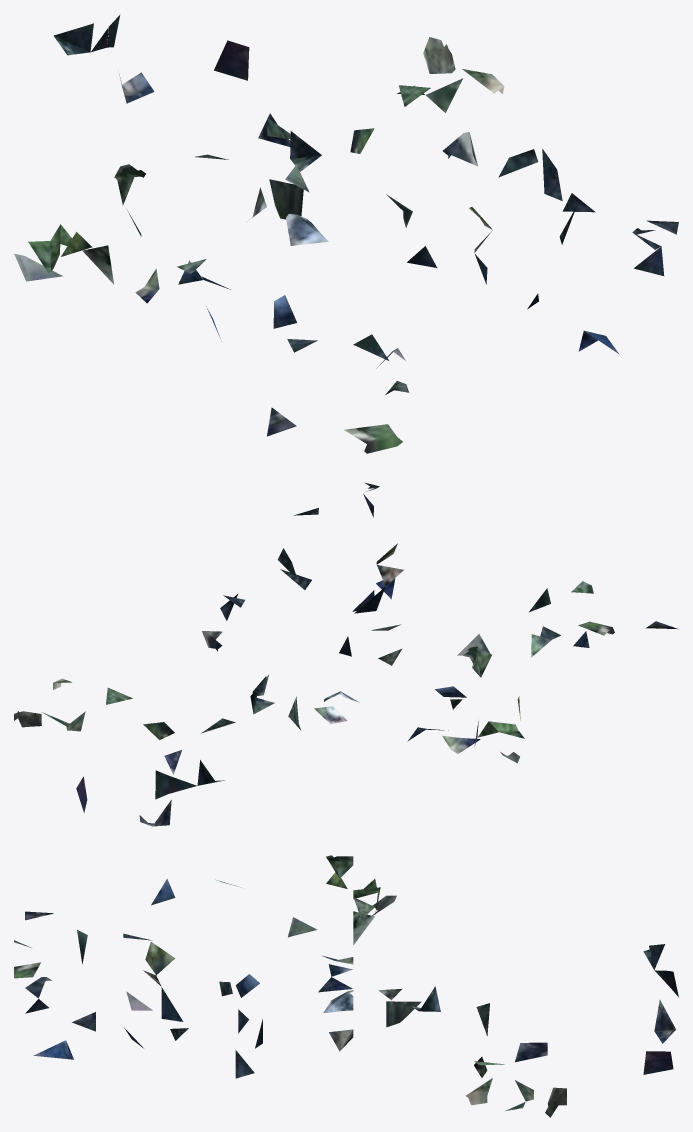
The picture shows the model from 3 angles, top to bottom: view 1: azimuth 30°, elevation 25°; view 2: azimuth 150°, elevation 25°; view 3: azimuth 270°, elevation 25°; orthographic projection. The views are drawn at different scales.
Visible parts, largest first — view 1: 30436272704361537422_1; view 2: 30436272704361537422_1; view 3: 30436272704361537422_1.
Part boxes in pixels (left/top/right/bottom): 30436272704361537422_1: left=14, top=14, right=678, bottom=453; 30436272704361537422_1: left=14, top=482, right=678, bottom=826; 30436272704361537422_1: left=14, top=855, right=678, bottom=1117.
Bounding box in the file's own units: 27.31 × 6.63 × 37.49.
1 material, 1 textured.
